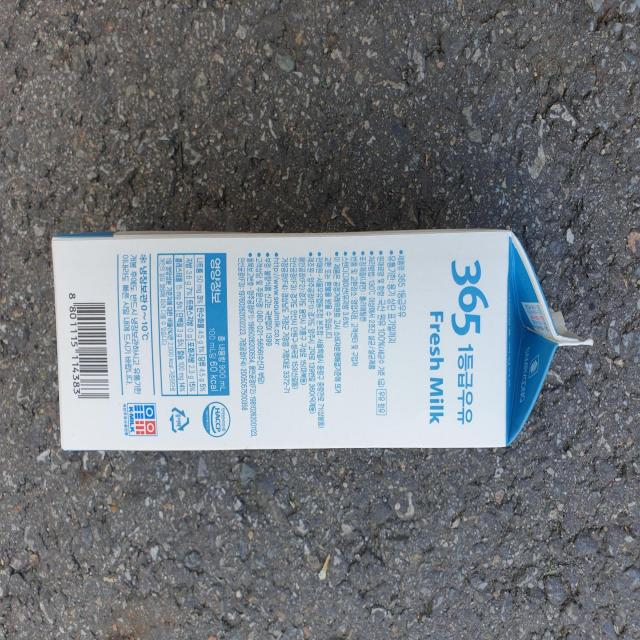paperpack: (51, 230, 594, 451)
